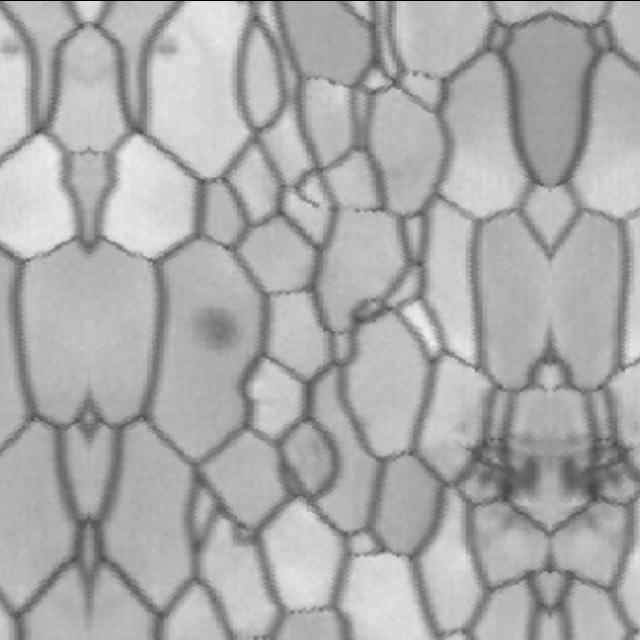good_void: (437, 414, 551, 520), (551, 414, 640, 520), (178, 288, 253, 368), (155, 28, 191, 61), (0, 29, 23, 61)
